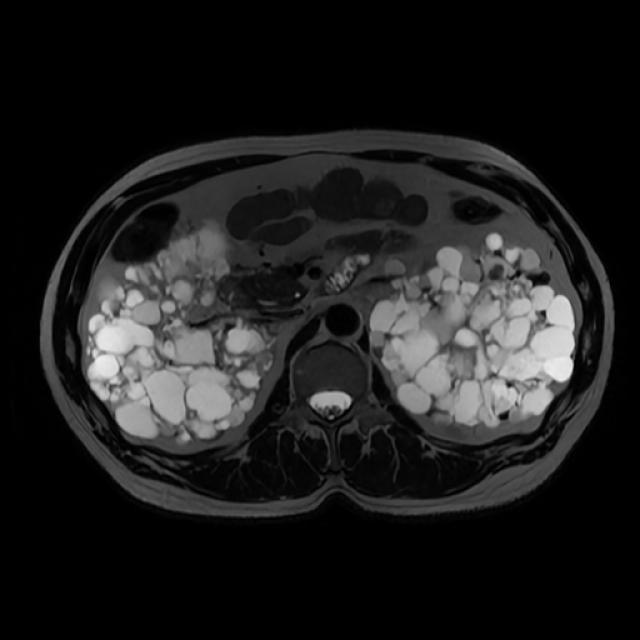sag: (84, 216, 278, 444)
sol: (367, 230, 576, 430)
